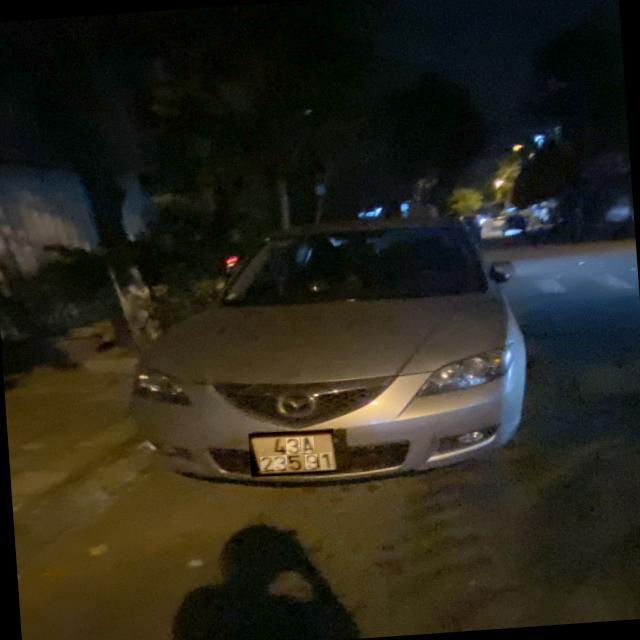car: (129, 205, 546, 484)
plate: (244, 427, 346, 482)
